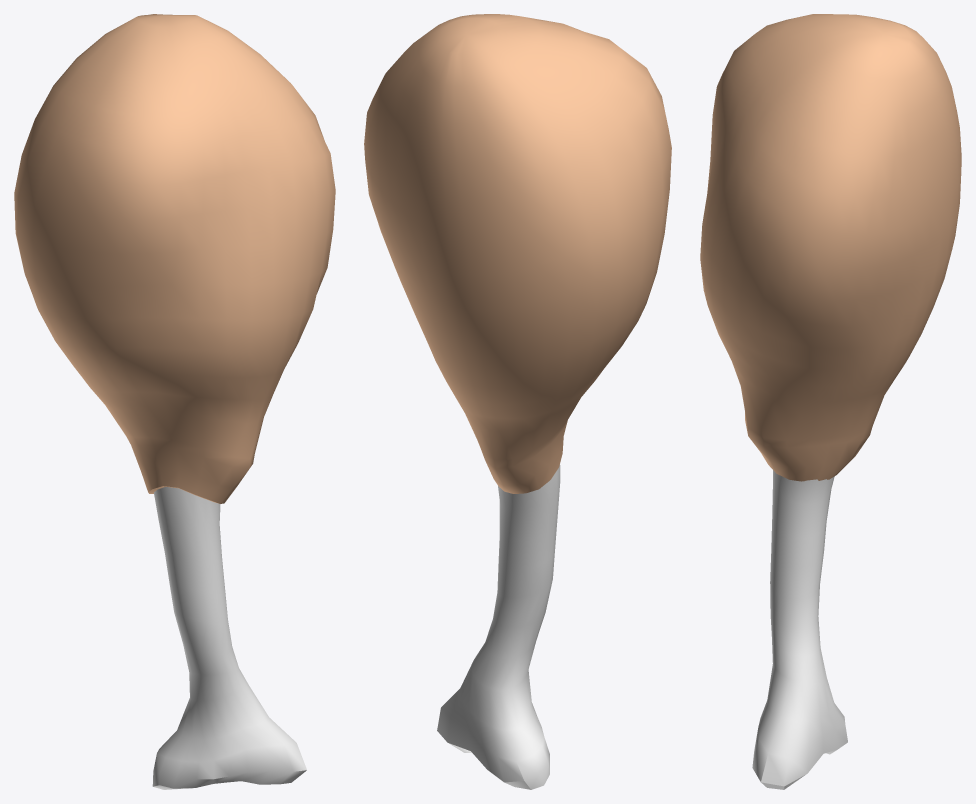
File: chickenLeg.fbx
The picture shows the model from 3 angles, left to right: view 1: azimuth 30°, elevation 25°; view 2: azimuth 150°, elevation 25°; view 3: azimuth 270°, elevation 25°; orthographic projection. The views are drawn at different scales.
Visible parts, largest first — view 1: chikenLeg, chikenLeg1; view 2: chikenLeg, chikenLeg1; view 3: chikenLeg, chikenLeg1.
Part boxes in pixels (left/top/right/bottom): chikenLeg: left=14, top=14, right=335, bottom=503; chikenLeg1: left=152, top=487, right=306, bottom=789; chikenLeg: left=364, top=14, right=671, bottom=493; chikenLeg1: left=437, top=464, right=560, bottom=789; chikenLeg: left=700, top=14, right=961, bottom=481; chikenLeg1: left=752, top=470, right=847, bottom=789.
Bounding box in the file's own units: 23.82 × 61.3 × 19.93.
